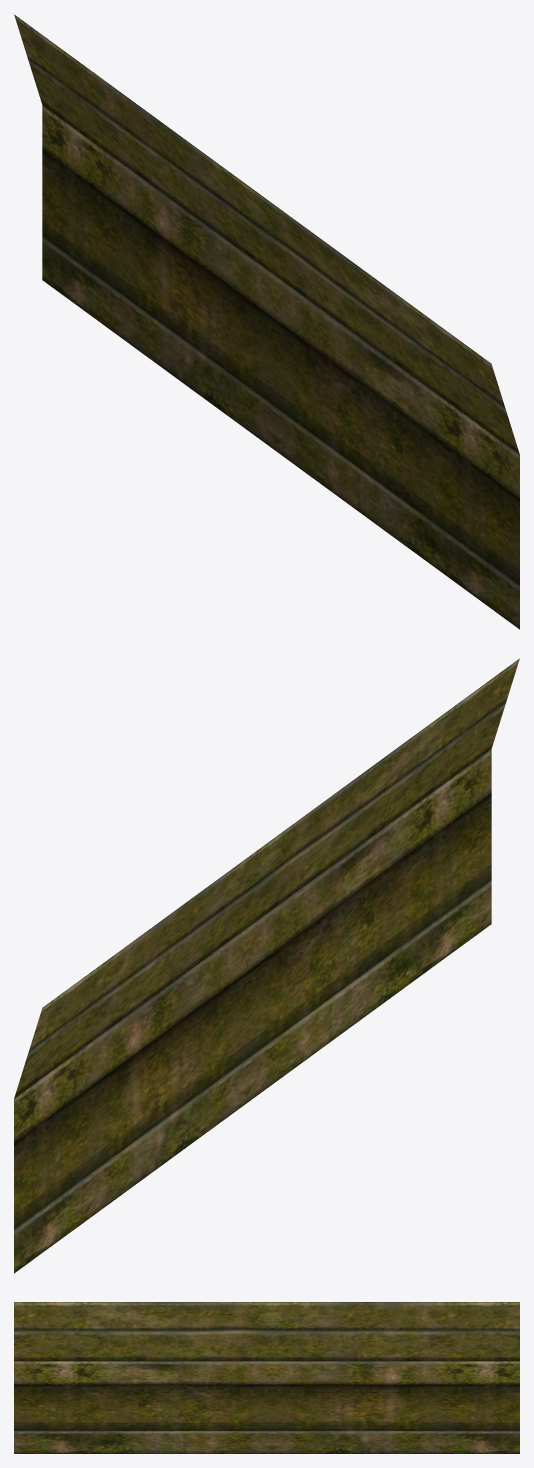
The model's file is OVERHILL_A_01_OBJECT316.fbx.
The picture shows the model from 3 angles, top to bottom: view 1: azimuth 30°, elevation 25°; view 2: azimuth 150°, elevation 25°; view 3: azimuth 270°, elevation 25°; orthographic projection. The views are drawn at different scales.
Parts seen in each view (by area): view 1: OVERHILL_A_01_OBJECT316; view 2: OVERHILL_A_01_OBJECT316; view 3: OVERHILL_A_01_OBJECT316.
Boxes of the visible parts, x1=… form: OVERHILL_A_01_OBJECT316: x1=14, y1=14, x2=519, y2=629; OVERHILL_A_01_OBJECT316: x1=14, y1=658, x2=519, y2=1273; OVERHILL_A_01_OBJECT316: x1=14, y1=1302, x2=519, y2=1453.
Size of the model in its own units: 1348 by 12361 by 39195.
2 materials, 2 textured.
